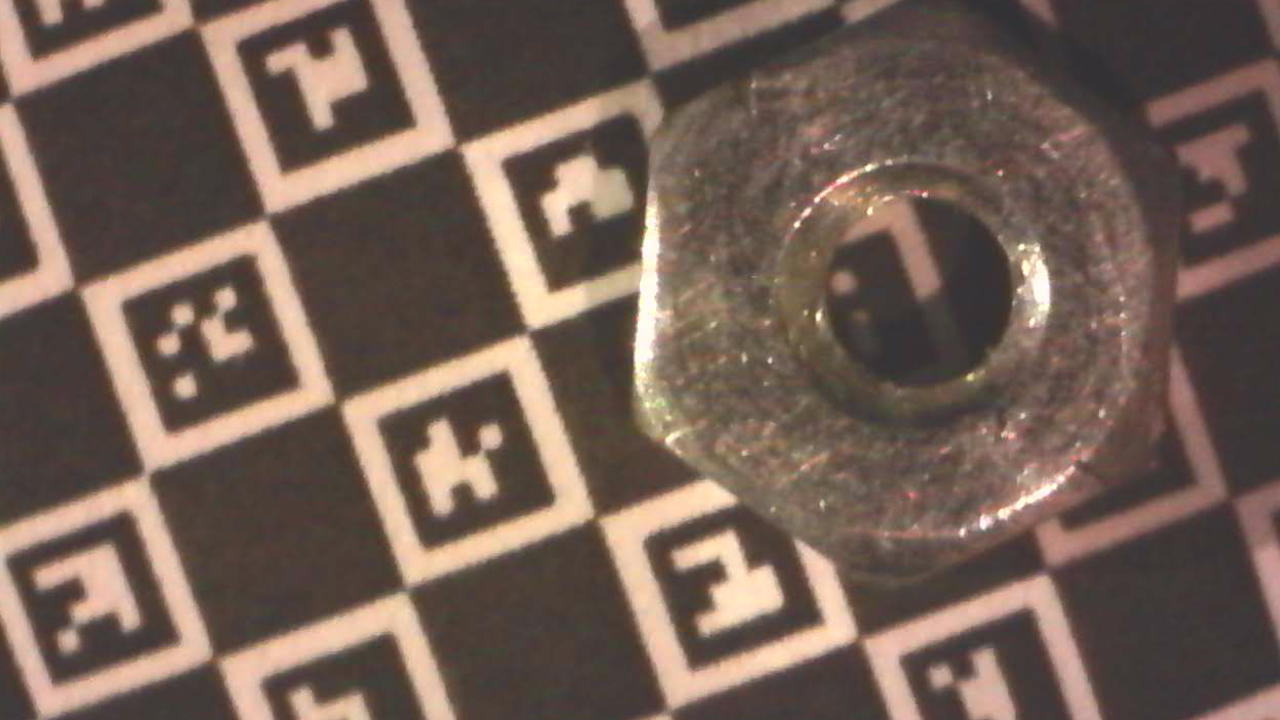Bolt: (625, 0, 1175, 593)
